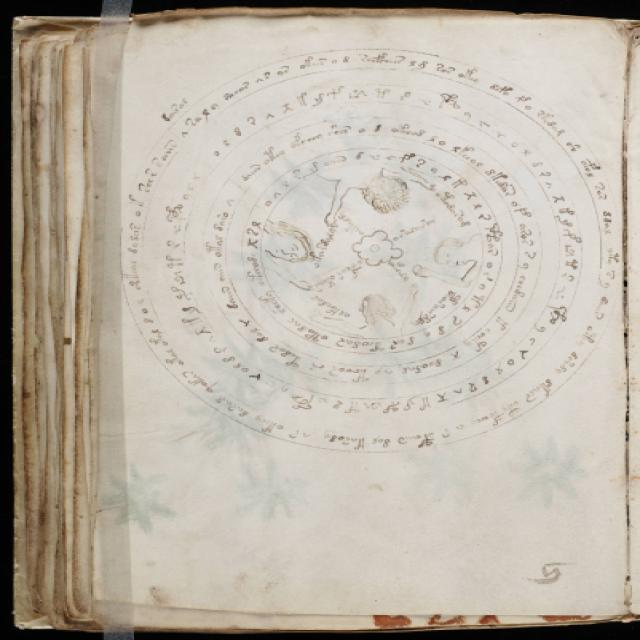ornament_circle: (120, 44, 627, 454)
